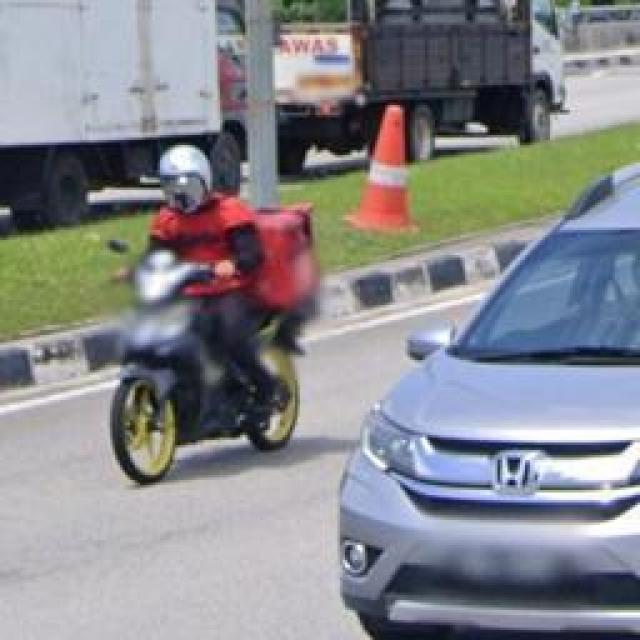car: (340, 136, 640, 640)
motorbike: (109, 130, 308, 488)
truck: (0, 0, 260, 238), (265, 0, 595, 160)
